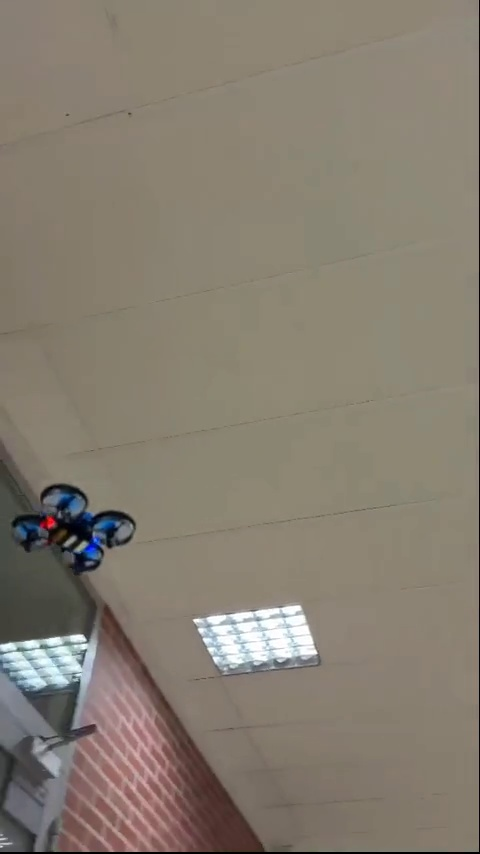drone: (12, 479, 144, 574)
